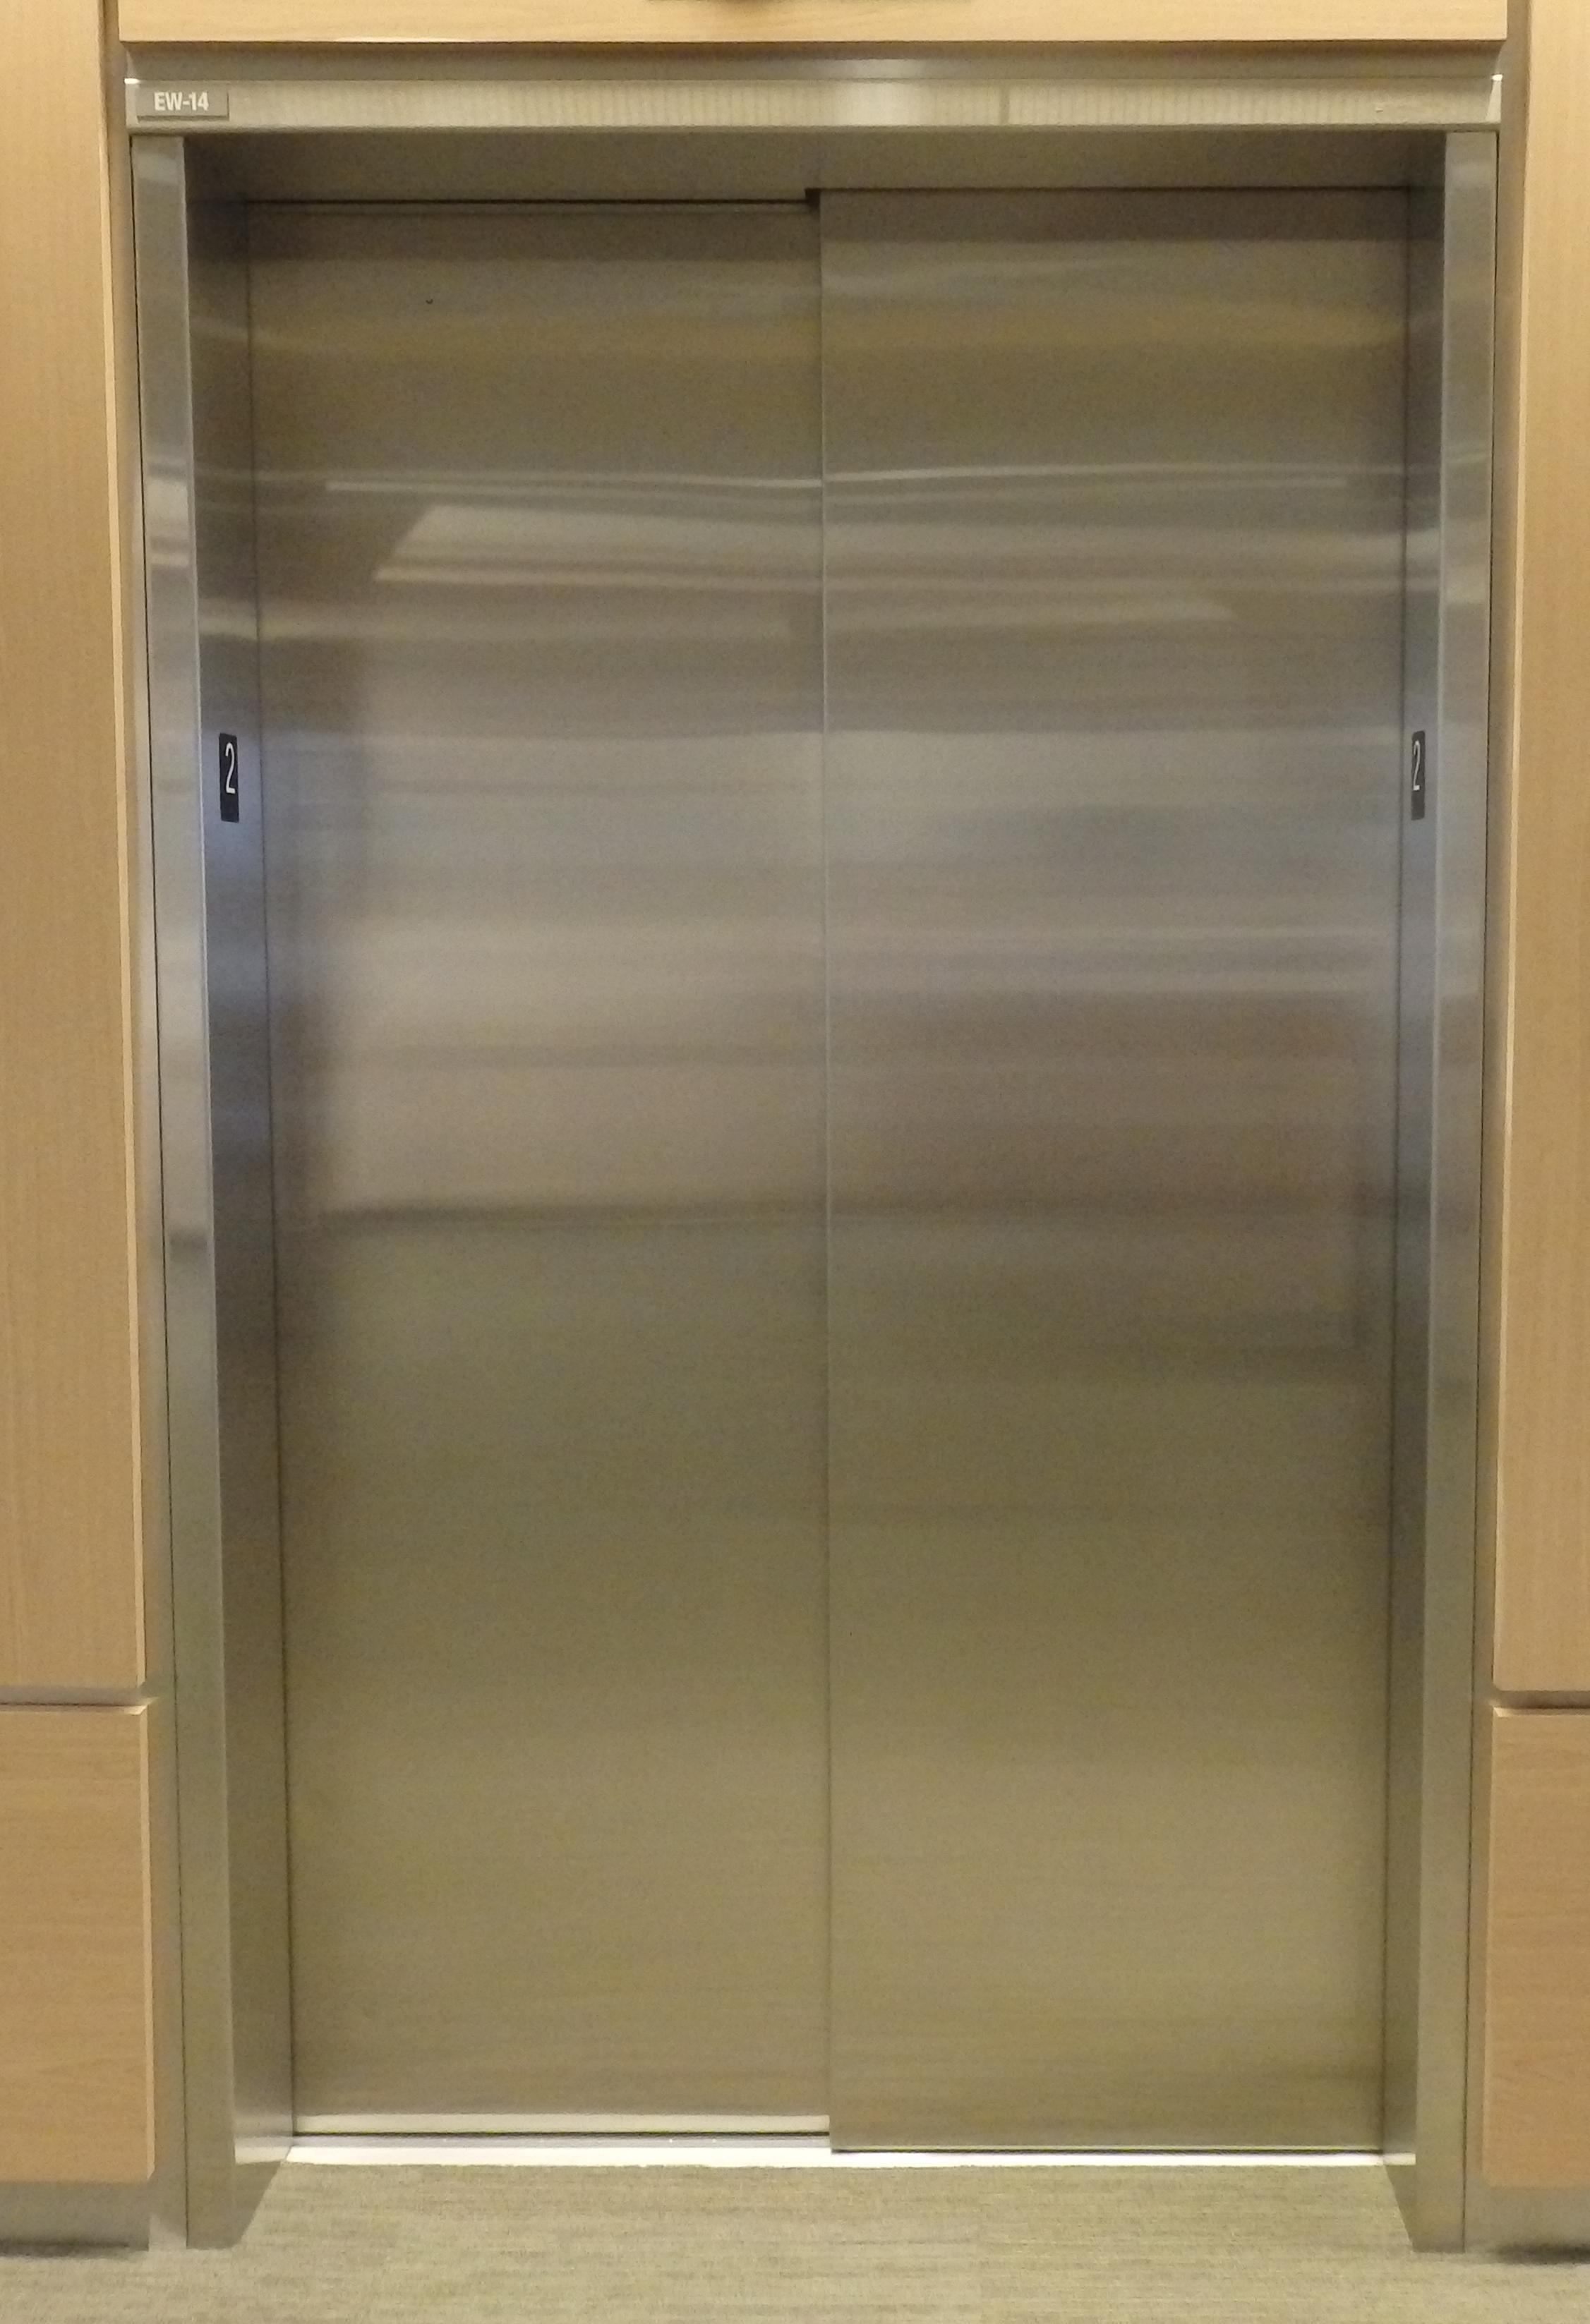door: (170, 108, 1427, 2216)
